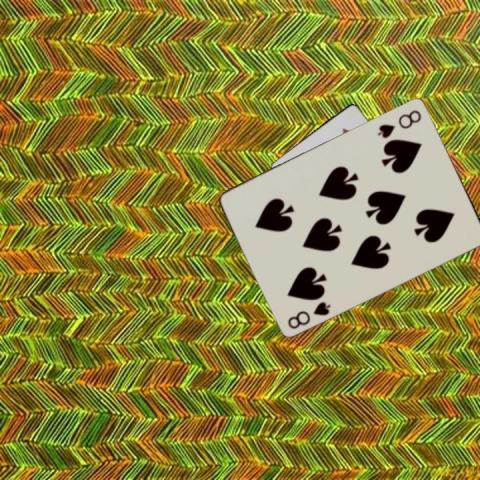8s: (374, 106, 423, 139), (284, 298, 332, 330)
